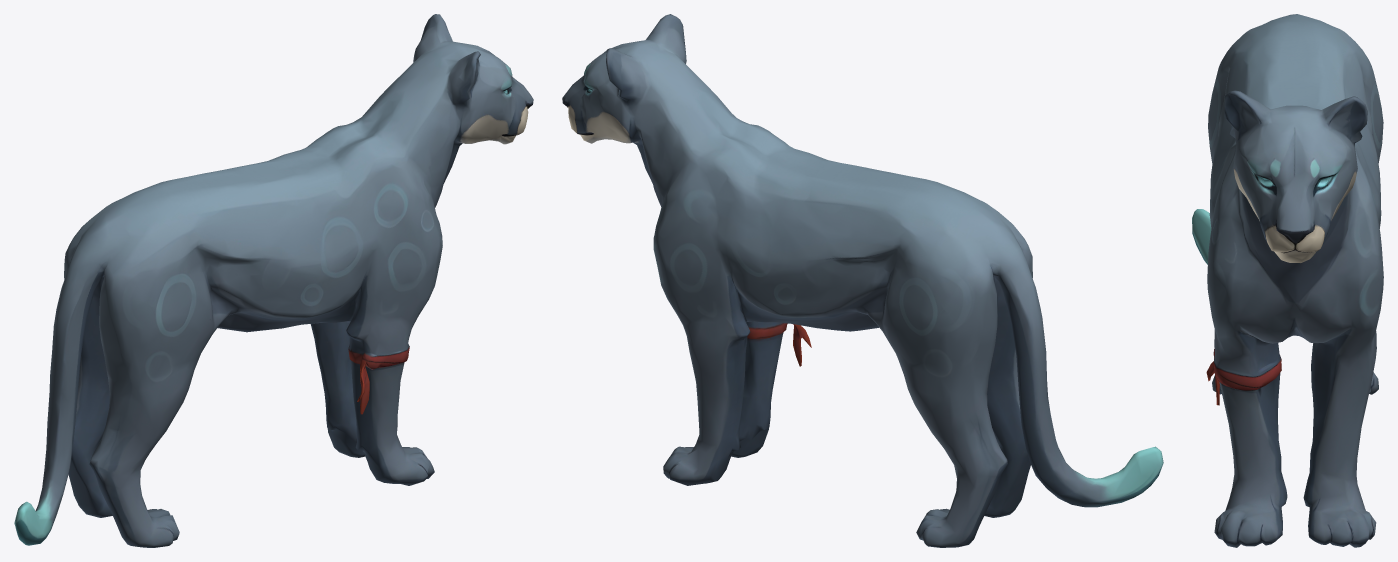
File: 075db83f-2b03-4afc-9c87-4169ea447072_model_url.glb
3 renders of one model, left to right at view 1: azimuth 30°, elevation 25°; view 2: azimuth 150°, elevation 25°; view 3: azimuth 270°, elevation 25°, orthographic. The views are drawn at different scales.
Visible parts, largest first — view 1: tripo_node_075db83f-2b03-4afc-9c87-4169ea447072; view 2: tripo_node_075db83f-2b03-4afc-9c87-4169ea447072; view 3: tripo_node_075db83f-2b03-4afc-9c87-4169ea447072.
Part boxes in pixels (bbox=[...]): tripo_node_075db83f-2b03-4afc-9c87-4169ea447072: bbox=[14, 14, 533, 547]; tripo_node_075db83f-2b03-4afc-9c87-4169ea447072: bbox=[562, 14, 1163, 547]; tripo_node_075db83f-2b03-4afc-9c87-4169ea447072: bbox=[1192, 14, 1383, 547].
Bounding box in the file's own units: 1 × 0.7106 × 0.2534.
1 material, 1 textured.
